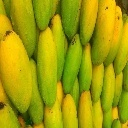mango: (0, 29, 33, 115), (36, 26, 57, 110), (62, 32, 82, 93)
